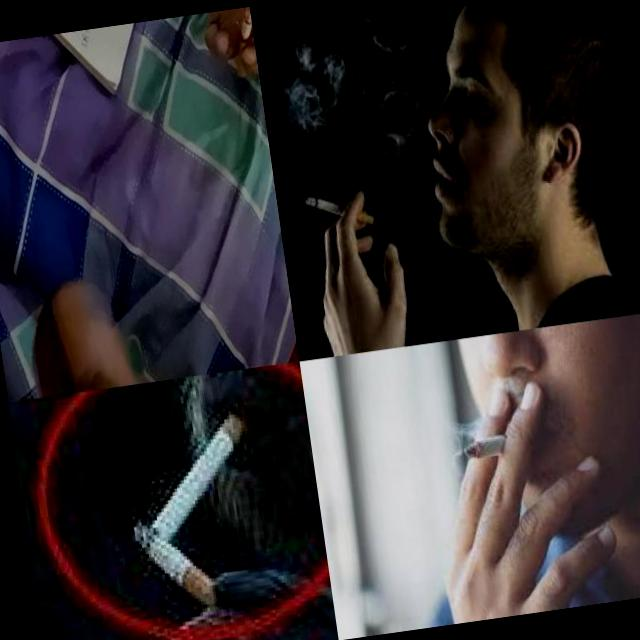cigarette: (134, 407, 265, 546), (131, 511, 222, 617), (304, 188, 376, 235), (227, 6, 260, 80), (462, 432, 533, 462)
